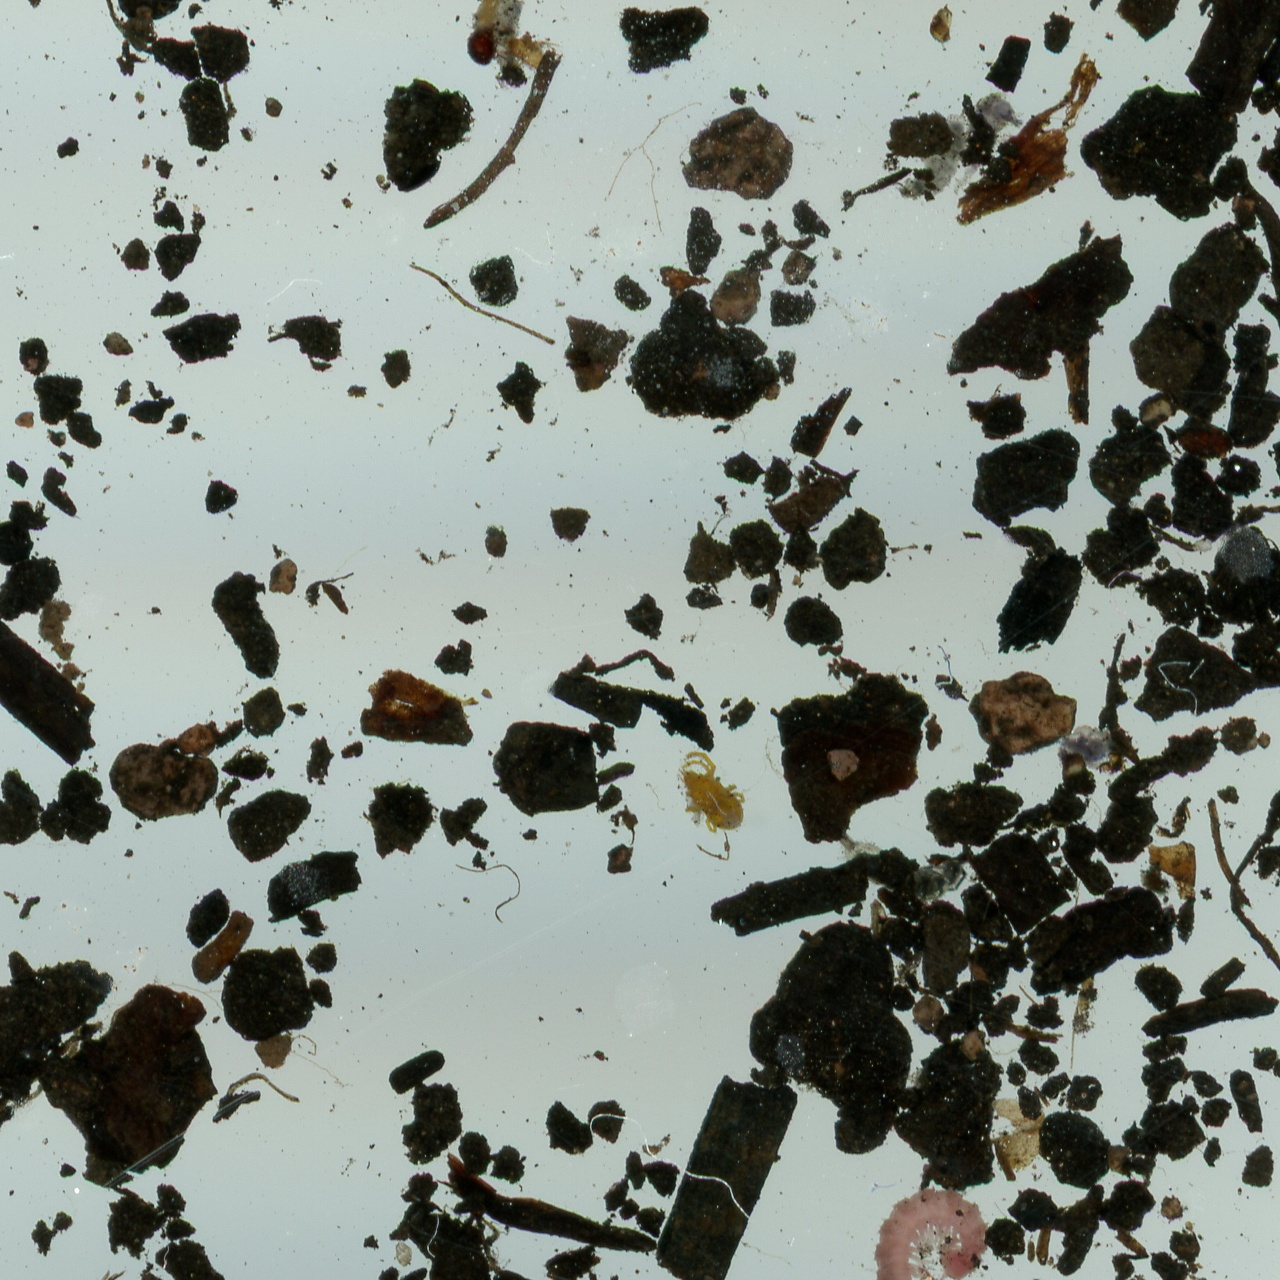arthropod: (653, 736, 761, 852), (945, 82, 1032, 213), (870, 1185, 989, 1280), (898, 110, 971, 203), (903, 853, 967, 907), (1054, 721, 1121, 772), (499, 34, 561, 72), (835, 831, 885, 870), (464, 23, 497, 68), (469, 0, 499, 33)
